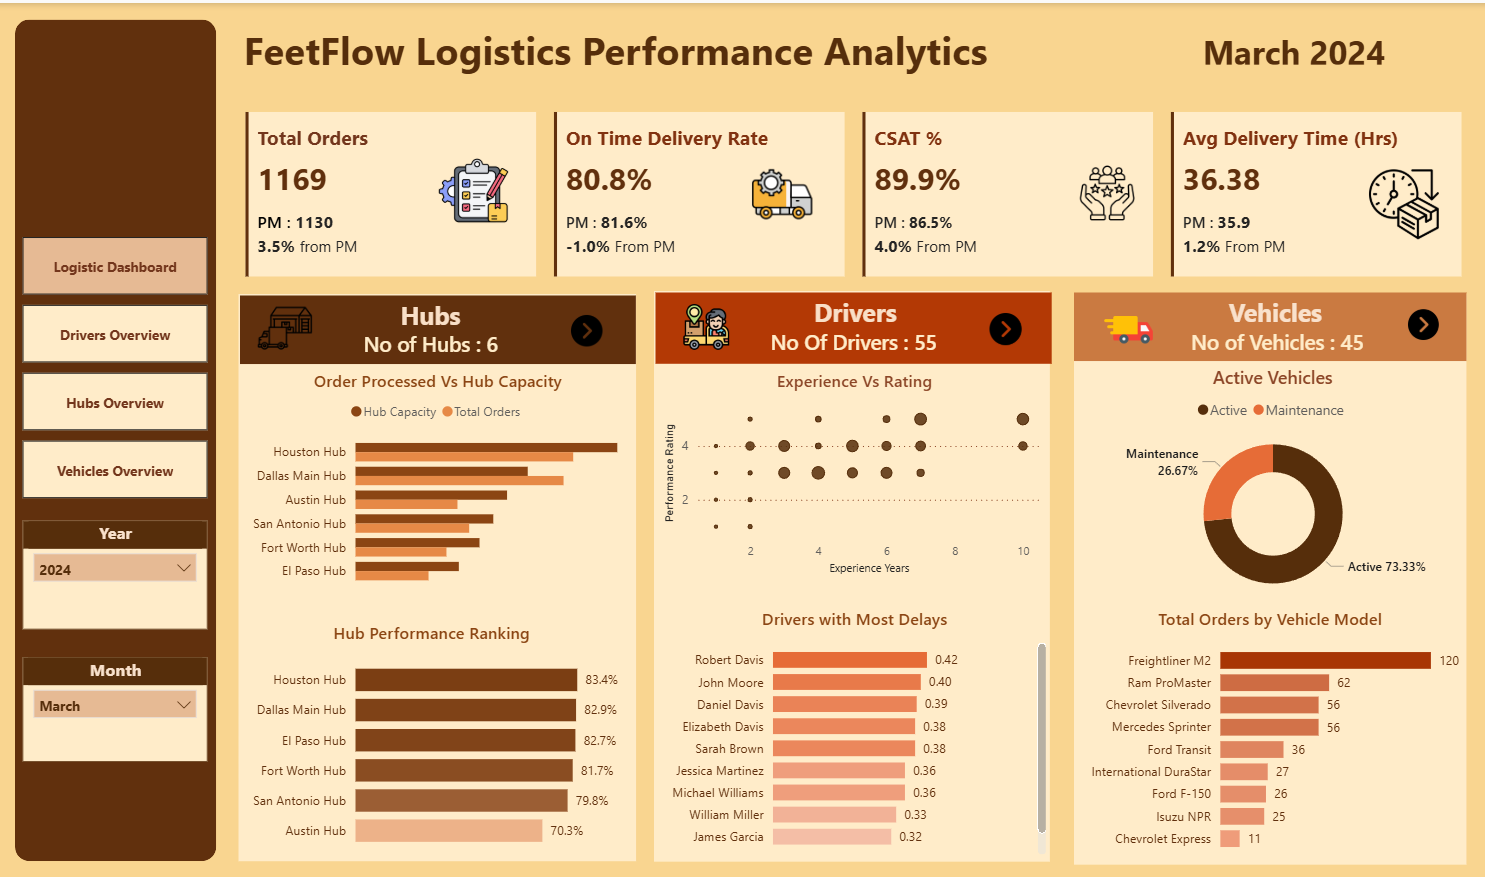

What the dashboard file says about the page in this screenshot:
{"tool":"powerbi","page":{"name":"Logistic Dashboard ","canvas":[1450,850],"ordinal":0},"visuals":[{"type":"shape","title":"Navigation bar ","box":[14.3,15.7,195.7,818.6],"z":0},{"type":"textbox","title":"Title","box":[232,14.3,813.6,62.4],"z":1000},{"type":"cardVisual","fields":{"Data":["Orders.Total Orders","Orders.On Time Delivery Rate","Orders.CSAT %","Orders.Avg Delivery Time (Hrs)"]},"box":[233.3,100,1195,170],"z":2000},{"type":"slicer","title":"Year","fields":{"Values":["Date Table.Year"]},"box":[22,504,180,106],"z":3000},{"type":"slicer","title":"Month","fields":{"Values":["Date Table.Month"]},"box":[22,636,180,102],"z":4000},{"type":"textbox","box":[371.7,282.2,112.4,52.8],"z":5000},{"type":"shape","box":[231.7,283.3,386.7,551.7],"z":5000,"group":"g1"},{"type":"shape","box":[233.4,285,385,66.7],"z":6000,"group":"g1"},{"type":"card","fields":{"Values":["Hubs.No of Hubs"]},"box":[309.7,316.6,218,34.4],"z":6000},{"type":"shape","box":[636.7,280,385,555],"z":7000},{"type":"shape","box":[637,281.9,385.4,69.6],"z":8000},{"type":"shape","box":[1045,283.3,381.7,555],"z":9000},{"type":"clusteredBarChart","title":"Order Processed Vs Hub Capacity ","fields":{"Category":["Hubs.HubName"],"Y":["Sum(Hubs.Hub Capacity)","Orders.Total Orders"]},"box":[233.4,356.6,385,220],"z":9000,"group":"g1"},{"type":"shape","box":[1045,281.7,381.7,66.7],"z":10000},{"type":"clusteredBarChart","title":"Hub Performance Ranking ","fields":{"Category":["Hubs.HubName"],"Y":["Orders.On Time Delivery Rate"]},"box":[233.8,601.3,372.9,232],"z":10000,"group":"g1"},{"type":"card","fields":{"Values":["Drivers.No Of Drivers"]},"box":[721.3,314.4,218.6,35.1],"z":11000},{"type":"textbox","box":[759.6,279.3,143.6,52.7],"z":12000},{"type":"scatterChart","title":"Experience Vs Rating ","fields":{"X":["Drivers.Experience Years"],"Y":["Drivers.Performance Rating"],"Size":["Sum(Drivers.Experience Years)1"]},"box":[640,356.7,381.7,205],"z":13000},{"type":"clusteredBarChart","title":"Drivers with Most Delays ","fields":{"Category":["Drivers.DriverName"],"Y":["Orders.Delayed Delivery Rate"]},"box":[640,588.3,381.7,245],"z":14000},{"type":"textbox","box":[1168.8,278.8,143.8,53.8],"z":15000},{"type":"card","fields":{"Values":["Vehicles.No of Vehicles"]},"box":[1131.7,313.3,220,35],"z":16000},{"type":"donutChart","title":"Active Vehicles ","fields":{"Y":["CountNonNull(Vehicles.Vehicle ID)"],"Category":["Vehicles.Vehicle Status"]},"box":[1045.6,351.5,383.6,237.3],"z":17000},{"type":"clusteredBarChart","fields":{"Category":["Vehicles.Vehicle Model"],"Y":["Orders.Total Orders"]},"box":[1045,588.3,381.7,246.7],"z":18000},{"type":"card","fields":{"Values":["Orders.Year Month Title"]},"box":[1132,30,252,34],"z":19000},{"type":"image","box":[957.5,296.8,41.5,41.5],"z":20000},{"type":"group","id":"g1","title":"Group 1","box":[231.7,283.3,386.7,551.7],"z":21000},{"type":"textbox","box":[347.1,281.4,142.9,52.9],"z":22000},{"type":"card","fields":{"Values":["Hubs.No of Hubs"]},"box":[310,315.7,218.6,35.7],"z":23000},{"type":"image","box":[549.6,287.3,41,62.4],"z":24000},{"type":"image","box":[1364,292,40,42],"z":25000},{"type":"pageNavigator","box":[22,228,180,254],"z":26000},{"type":"image","box":[419.9,117,80.3,130.8],"z":27000},{"type":"image","box":[725,119.3,71.1,133.1],"z":28000},{"type":"image","box":[1043.9,144.5,64.2,80.3],"z":29000},{"type":"image","box":[1326.1,144.5,78,103.2],"z":30000},{"type":"image","box":[243.2,282.2,66.5,68.8],"z":31000},{"type":"image","box":[649.3,286.8,75.7,55.1],"z":32000},{"type":"image","box":[1043.9,289.1,105.5,57.4],"z":33000}]}

Visuals, with their boxes in screenshot pixels (x1, y1, x2, y2), scaled from the page's 1450x850 canvas onto the 1485x877 screenshot:
"Navigation bar " shape: (x1=15, y1=16, x2=215, y2=861)
"Title" textbox: (x1=238, y1=15, x2=1071, y2=79)
cardVisual - Orders.Total Orders x Orders.On Time Delivery Rate: (x1=239, y1=103, x2=1463, y2=279)
"Year" slicer: (x1=23, y1=520, x2=207, y2=629)
"Month" slicer: (x1=23, y1=656, x2=207, y2=761)
textbox: (x1=381, y1=291, x2=496, y2=346)
shape: (x1=237, y1=292, x2=633, y2=862)
shape: (x1=239, y1=294, x2=633, y2=363)
card - Hubs.No of Hubs: (x1=317, y1=327, x2=540, y2=362)
shape: (x1=652, y1=289, x2=1046, y2=862)
shape: (x1=652, y1=291, x2=1047, y2=363)
shape: (x1=1070, y1=292, x2=1461, y2=865)
"Order Processed Vs Hub Capacity " clusteredBarChart: (x1=239, y1=368, x2=633, y2=595)
shape: (x1=1070, y1=291, x2=1461, y2=359)
"Hub Performance Ranking " clusteredBarChart: (x1=239, y1=620, x2=621, y2=860)
card - Drivers.No Of Drivers: (x1=739, y1=324, x2=963, y2=361)
textbox: (x1=778, y1=288, x2=925, y2=343)
"Experience Vs Rating " scatterChart: (x1=655, y1=368, x2=1046, y2=580)
"Drivers with Most Delays " clusteredBarChart: (x1=655, y1=607, x2=1046, y2=860)
textbox: (x1=1197, y1=288, x2=1344, y2=343)
card - Vehicles.No of Vehicles: (x1=1159, y1=323, x2=1384, y2=359)
"Active Vehicles " donutChart: (x1=1071, y1=363, x2=1464, y2=608)
clusteredBarChart - Vehicles.Vehicle Model x Orders.Total Orders: (x1=1070, y1=607, x2=1461, y2=862)
card - Orders.Year Month Title: (x1=1159, y1=31, x2=1417, y2=66)
image: (x1=981, y1=306, x2=1023, y2=349)
"Group 1" group: (x1=237, y1=292, x2=633, y2=862)
textbox: (x1=355, y1=290, x2=502, y2=345)
card - Hubs.No of Hubs: (x1=317, y1=326, x2=541, y2=363)
image: (x1=563, y1=296, x2=605, y2=361)
image: (x1=1397, y1=301, x2=1438, y2=345)
pageNavigator: (x1=23, y1=235, x2=207, y2=497)
image: (x1=430, y1=121, x2=512, y2=256)
image: (x1=742, y1=123, x2=815, y2=260)
image: (x1=1069, y1=149, x2=1135, y2=232)
image: (x1=1358, y1=149, x2=1438, y2=256)
image: (x1=249, y1=291, x2=317, y2=362)
image: (x1=665, y1=296, x2=742, y2=353)
image: (x1=1069, y1=298, x2=1177, y2=358)
